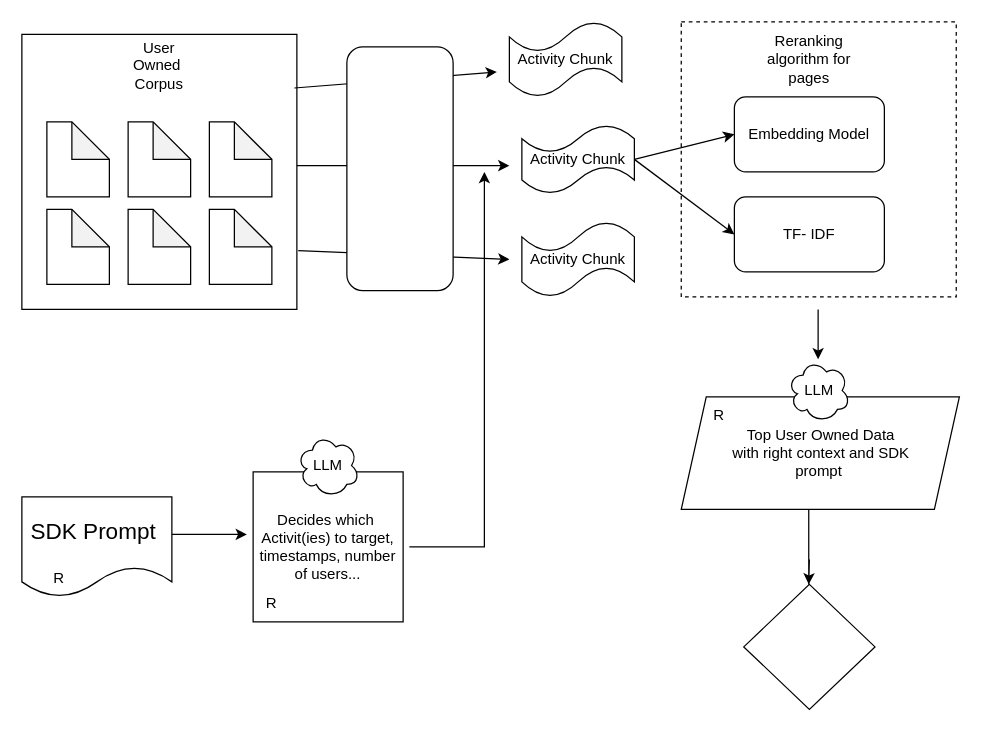
This 981x731 diagram has some shape labels left out. Here are the shapes that lost their labels. From the top down, the centre of each, then its label:
point 399,168: Contextual Activity Classification Model
point 808,646: RESULT
